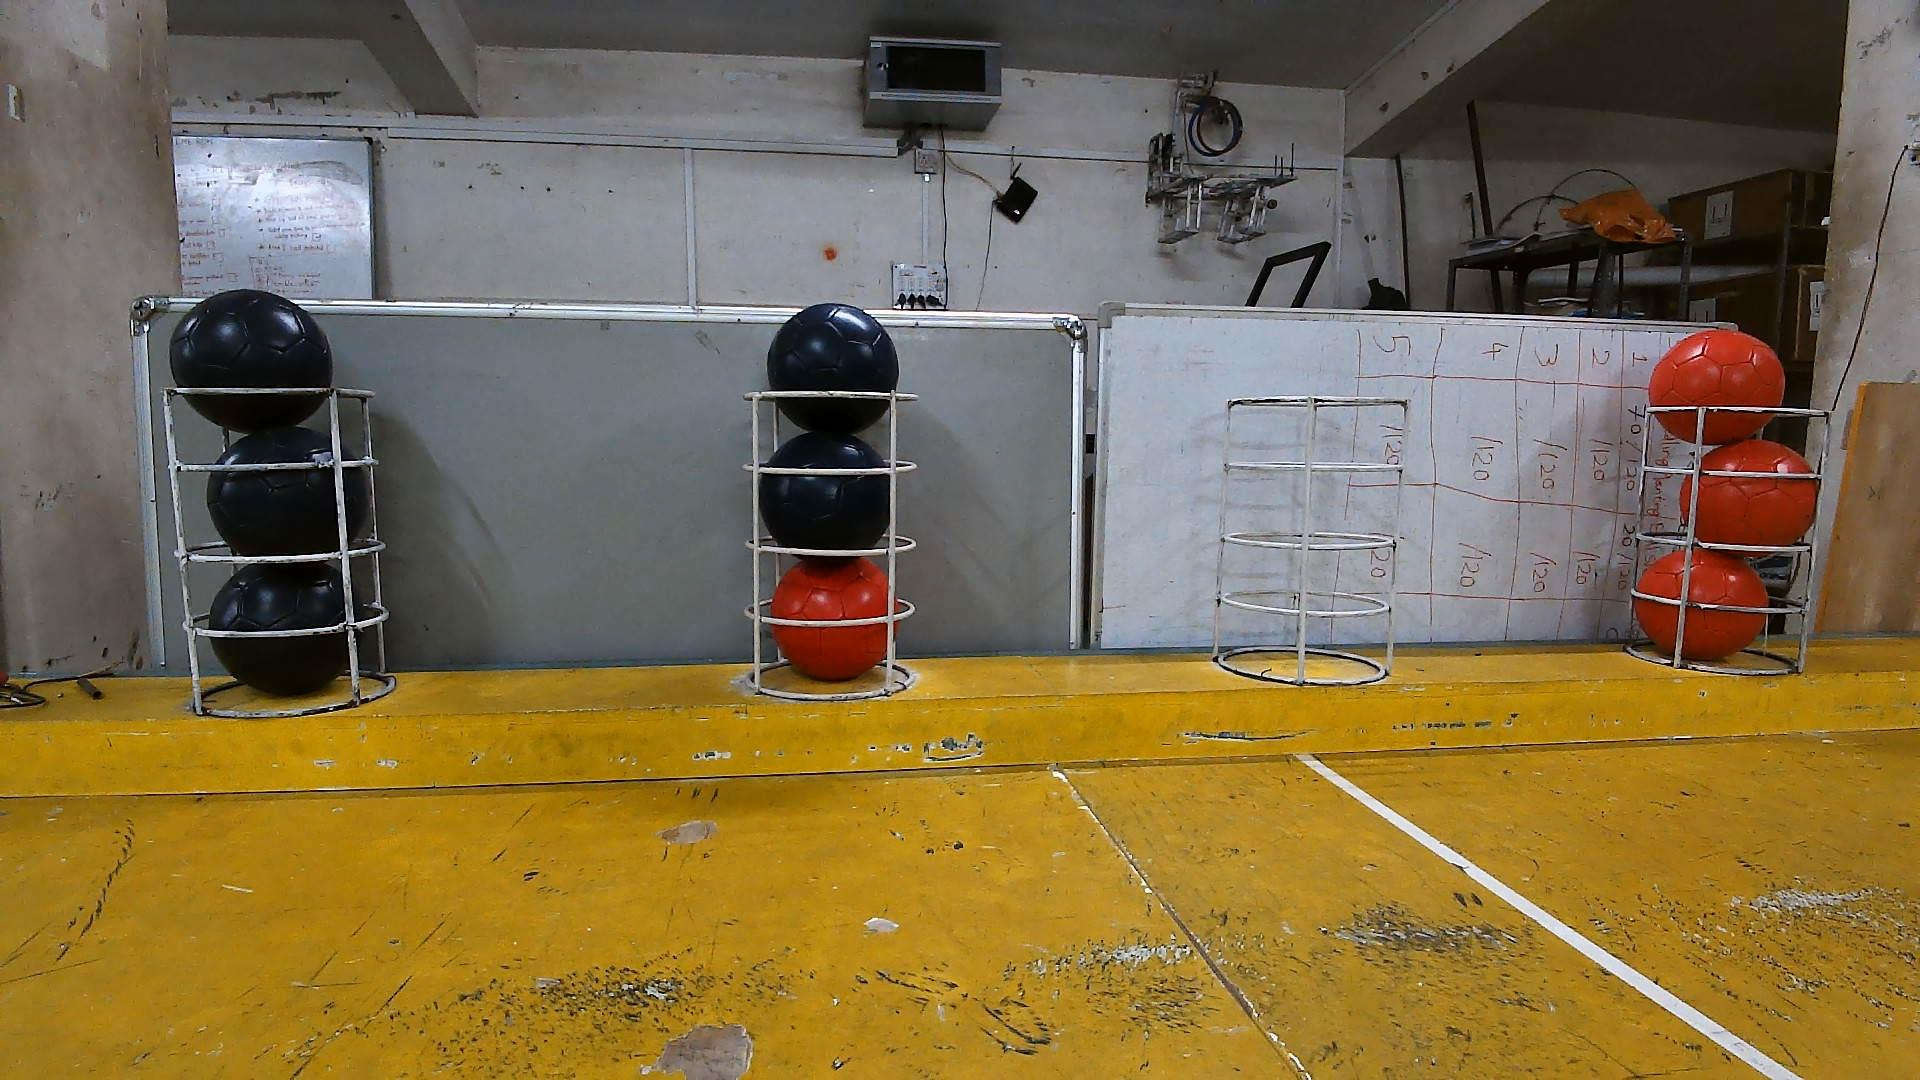dhoka: (169, 287, 338, 438), (203, 562, 365, 696), (208, 426, 367, 562), (765, 303, 899, 435), (757, 427, 889, 551)
laale: (1650, 330, 1785, 446), (773, 559, 899, 683), (1676, 439, 1818, 547), (1635, 547, 1770, 661)
